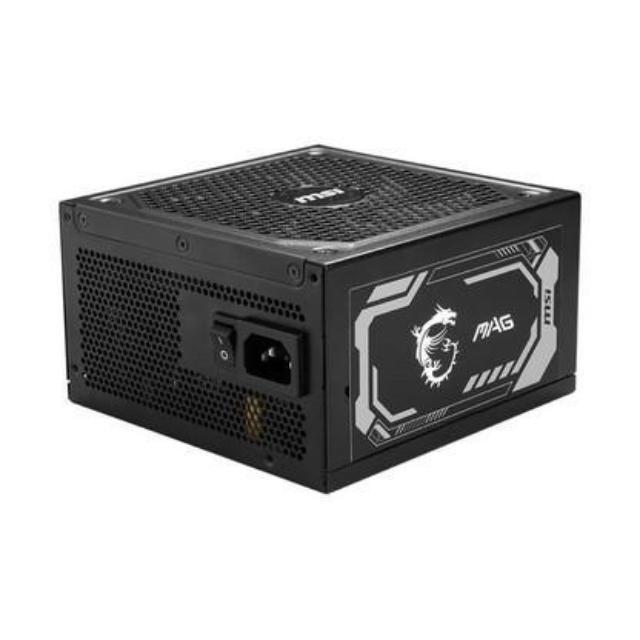PSU: (59, 141, 584, 499)
